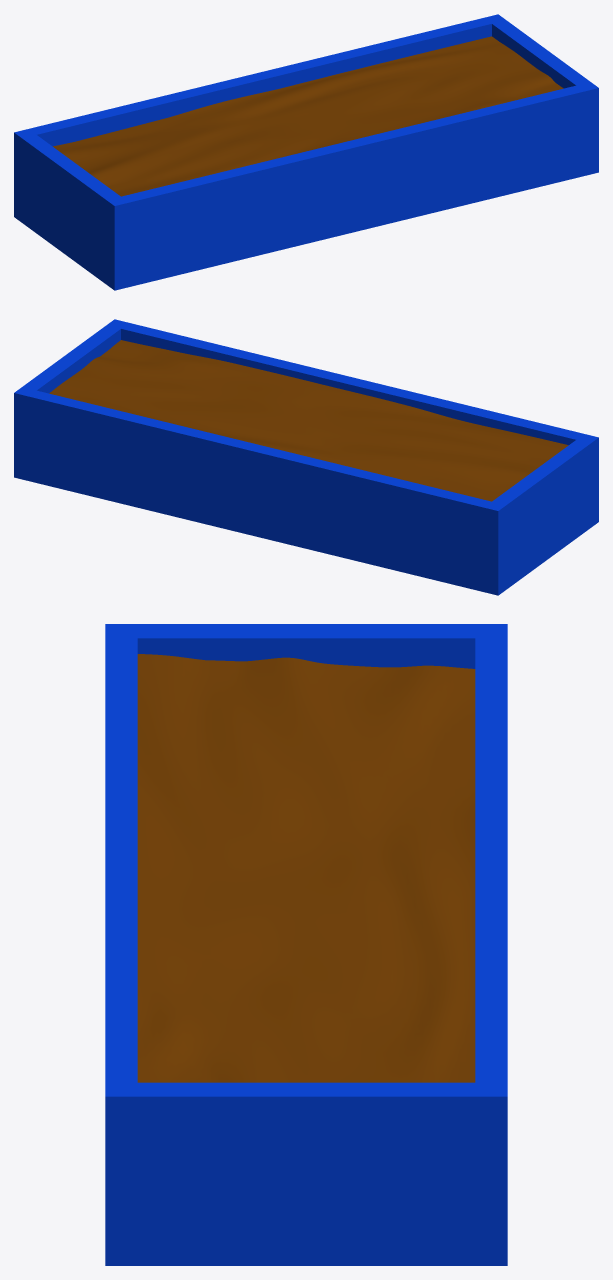
File: Vaso.fbx
3 renders of one model, top to bottom at view 1: azimuth 30°, elevation 25°; view 2: azimuth 150°, elevation 25°; view 3: azimuth 270°, elevation 25°, orthographic. The views are drawn at different scales.
Visible parts, largest first — view 1: Cube.011, Plane; view 2: Cube.011, Plane; view 3: Plane, Cube.011.
Part boxes in pixels (x1=…): Cube.011: x1=14, y1=14, x2=598, y2=290; Plane: x1=53, y1=36, x2=563, y2=196; Cube.011: x1=14, y1=319, x2=598, y2=595; Plane: x1=49, y1=340, x2=568, y2=501; Plane: x1=137, y1=654, x2=475, y2=1082; Cube.011: x1=105, y1=624, x2=507, y2=1265.
Bounding box in the file's own units: 123 × 20.51 × 44.25.
